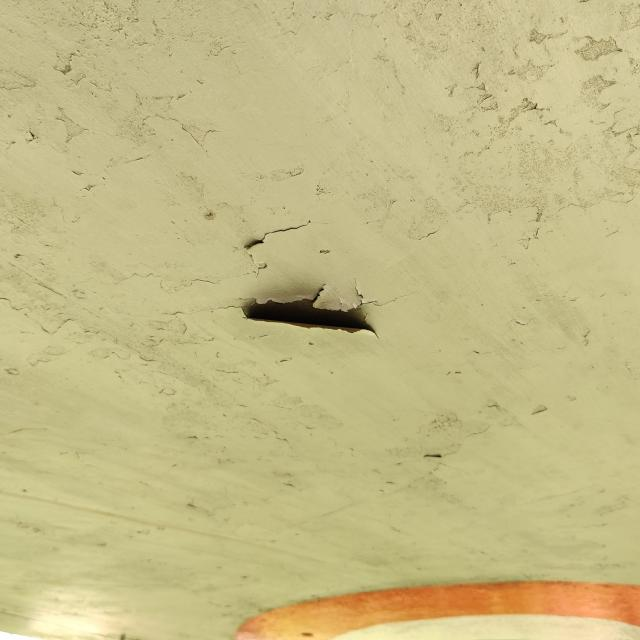paint-off: (231, 266, 386, 348)
